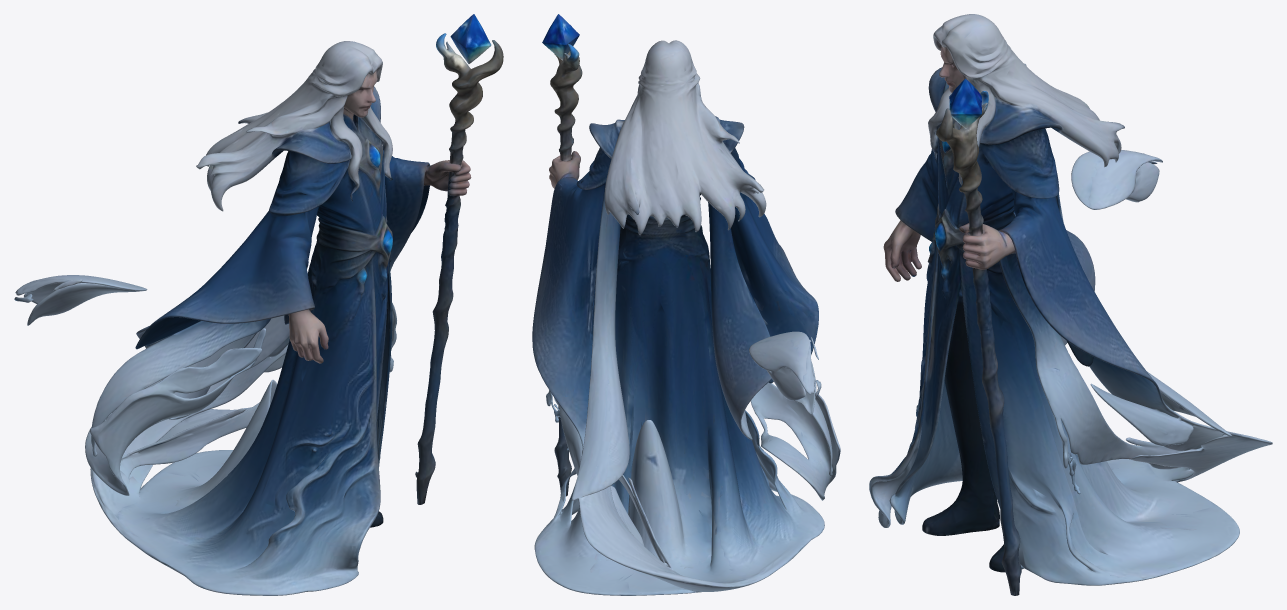
The model's file is hero_m_3.glb.
The picture shows the model from 3 angles, left to right: view 1: azimuth 30°, elevation 25°; view 2: azimuth 150°, elevation 25°; view 3: azimuth 270°, elevation 25°; orthographic projection. The views are drawn at different scales.
Visible parts, largest first — view 1: node_0; view 2: node_0; view 3: node_0.
Boxes of the visible parts, box(x1,y1,x2,y2) form: node_0: box(14, 14, 503, 595); node_0: box(532, 14, 840, 595); node_0: box(869, 14, 1272, 595).
Bounding box in the file's own units: 0.7588 × 0.9284 × 0.6366.
Materials: 1 (1 with a texture image).
